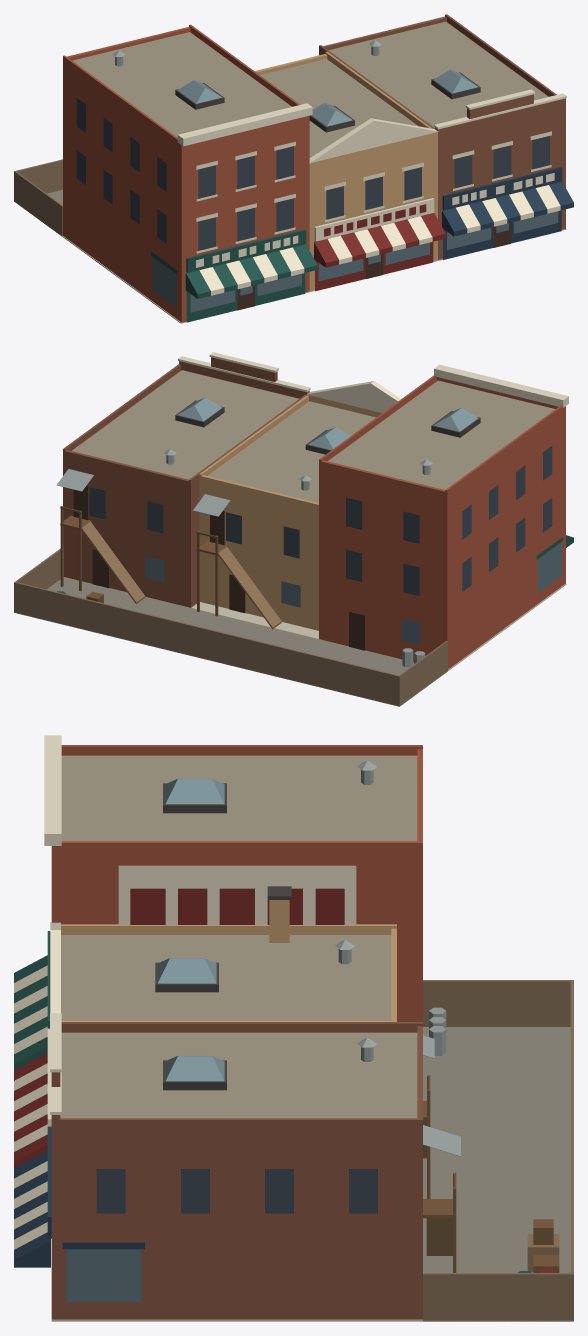
File: highstreet_wd.glb
3 views of the same model, one above another, from view 1: azimuth 30°, elevation 25°; view 2: azimuth 150°, elevation 25°; view 3: azimuth 270°, elevation 25° (orthographic). The views are drawn at different scales.
Visible parts, largest first — view 1: highstreet_wd; view 2: highstreet_wd; view 3: highstreet_wd.
Part boxes in pixels (<box>): highstreet_wd: <box>14,14,573,323</box>; highstreet_wd: <box>14,352,573,706</box>; highstreet_wd: <box>14,735,573,1321</box>.
Bounding box in the file's own units: 18 × 8.49 × 14.47.
